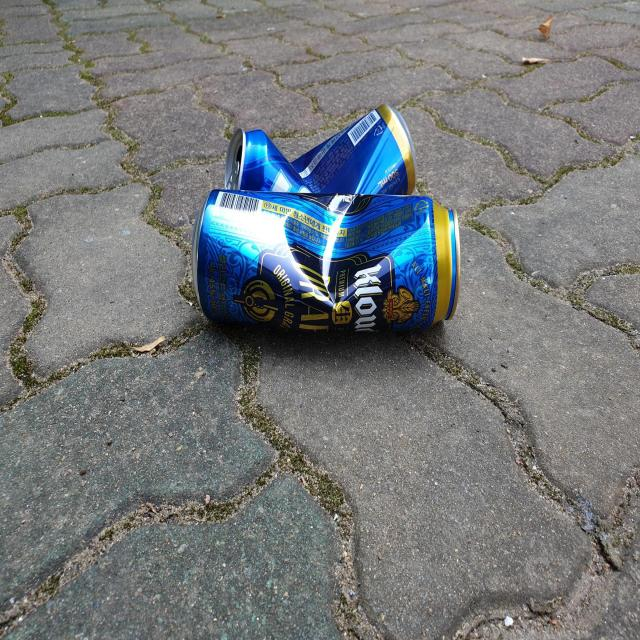can: (191, 189, 461, 332), (224, 103, 417, 194)
